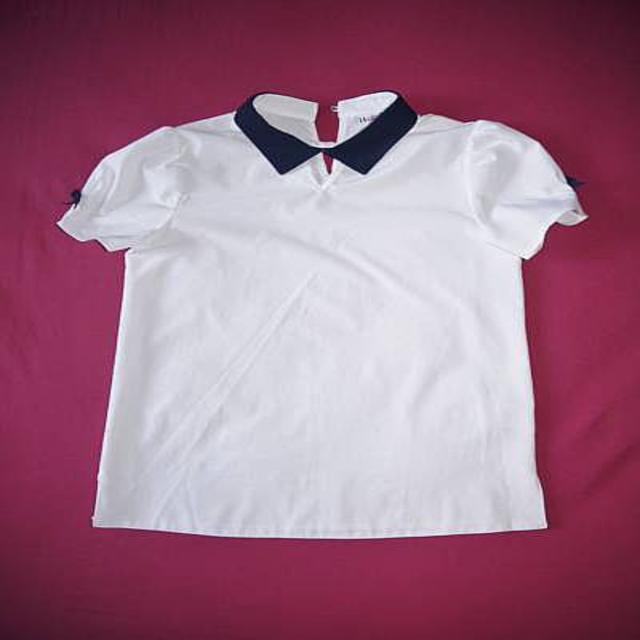T_SHIRT: (55, 83, 589, 546)
